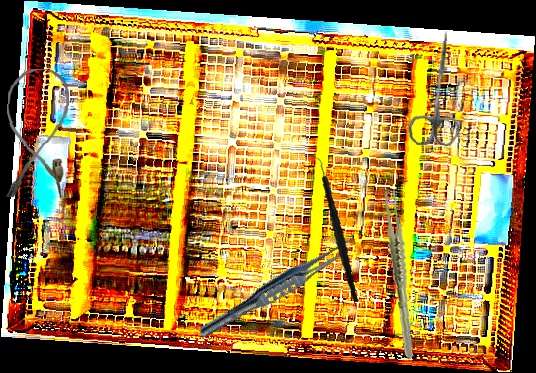Cannula: (2, 67, 71, 200)
Chopper: (293, 153, 375, 303)
Iris Scissors: (406, 28, 470, 149)
Tissue Forceps: (195, 231, 359, 346), (372, 188, 426, 359)
